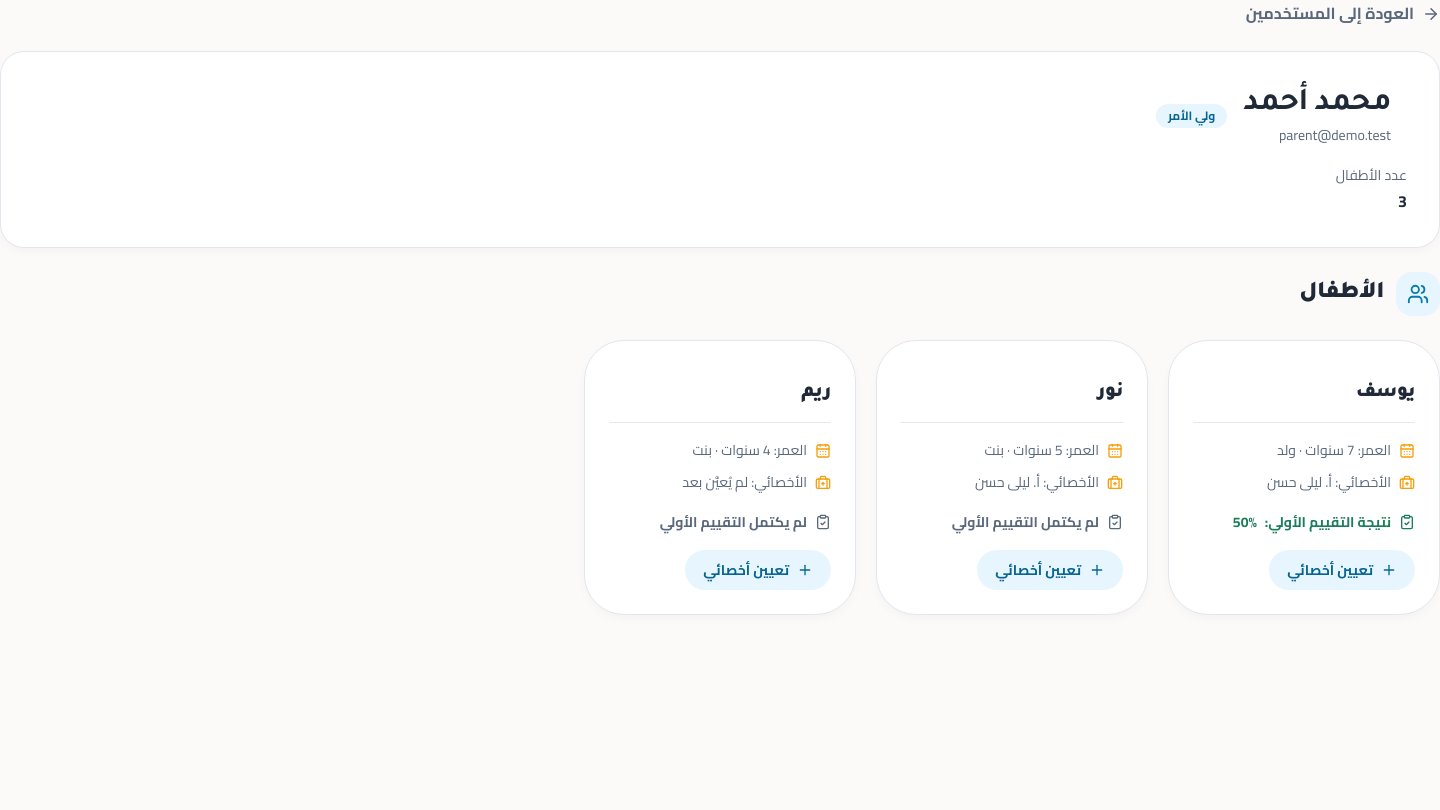
Test: AdminUserDetailPage › assigns a specialist to one child with the + action (one-child request)
The width and height of the screenshot is (1440, 810).
Expected: the heading "محمد أحمد" is shown, [1243,84,1391,124]
What coordinates should you click on to do the following:
click the button with aria-label "تعيين أخصائي لـ ريم"
I would click on:
 (758, 570)
Its box is [685,550,831,590].
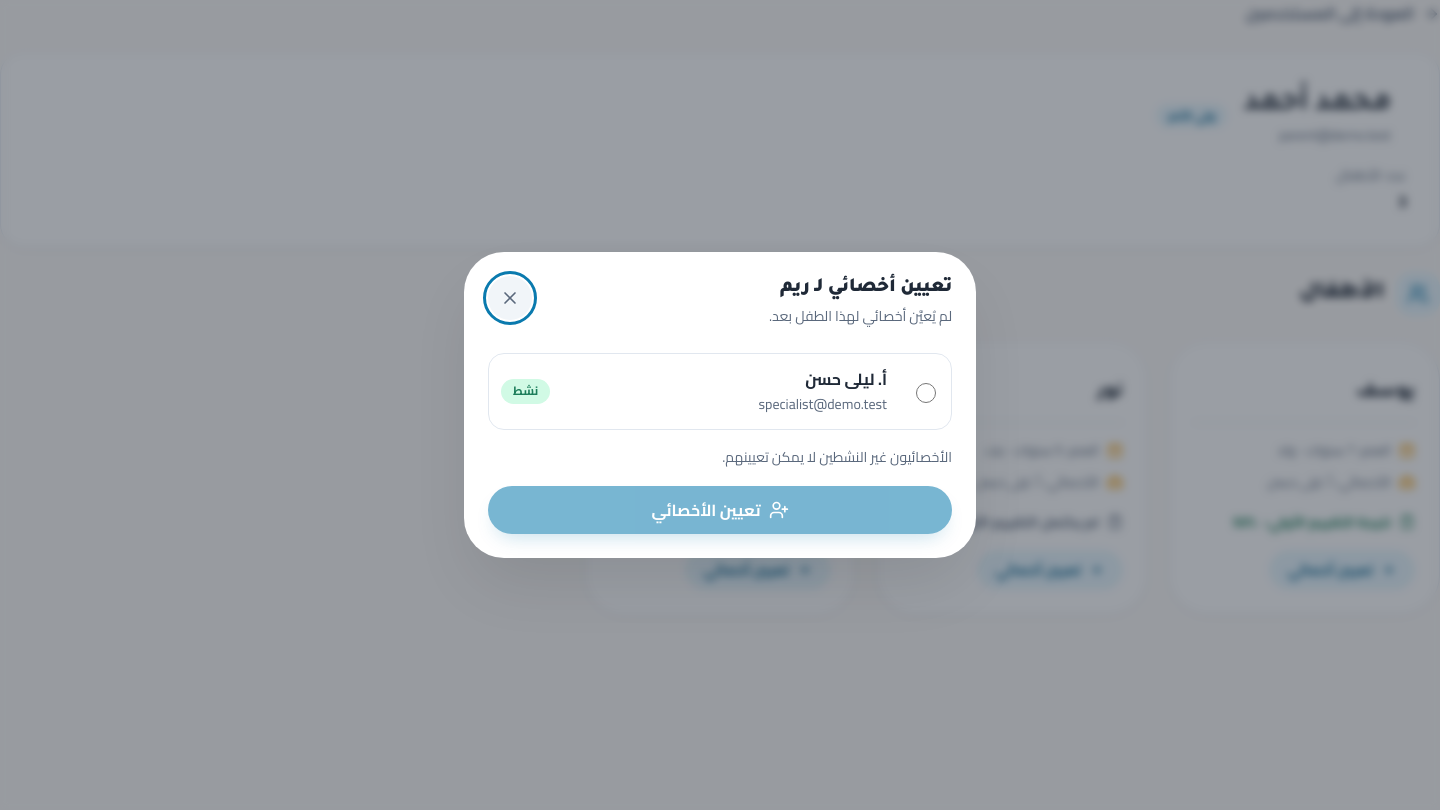
Expected: the text "لم يُعيَّن أخصائي لهذا الطفل بعد." is shown, [769,305,952,329]
Expected: the button "تعيين الأخصائي" is disabled, [488,486,952,534]
What coordinates should you click on to do the following:
click the radio button labelled "أ. ليلى حسن specialist@demo.test نشط"
I would click on:
 (926, 393)
Its box is [916,383,936,403].
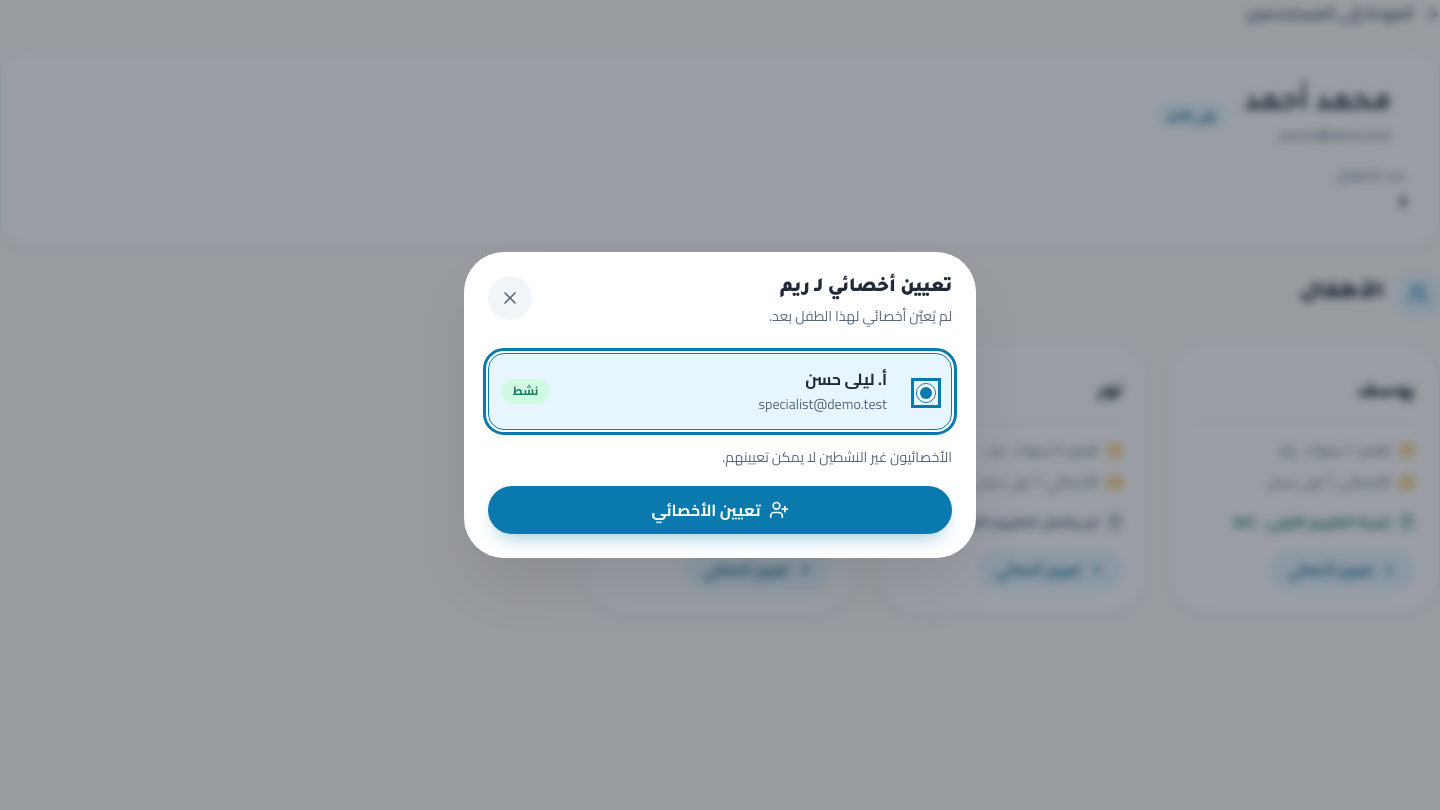
What coordinates should you click on to do the following:
click the button "تعيين الأخصائي"
I would click on:
 (720, 510)
Its box is [488,486,952,534].
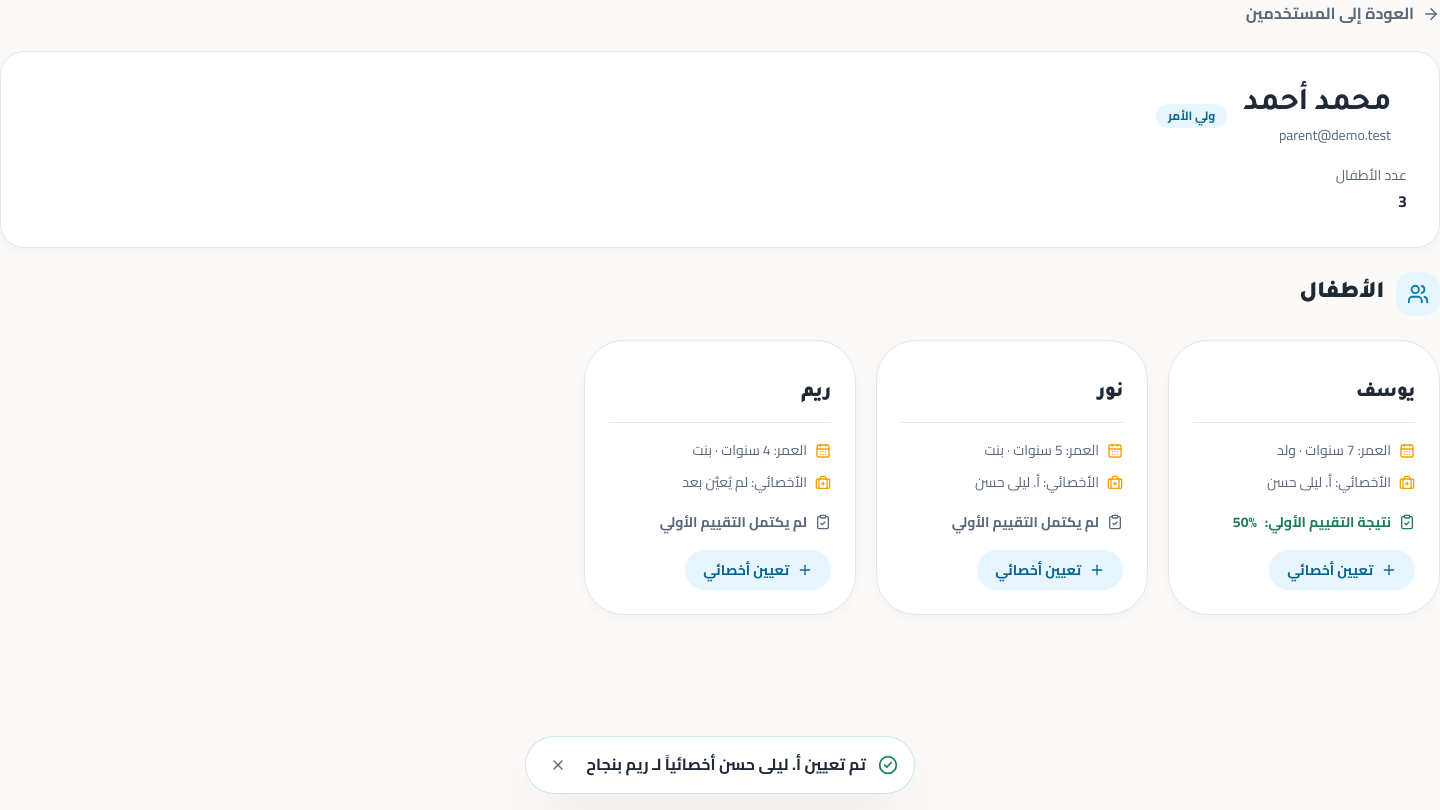
Expected: the text "تم تعيين أ. ليلى حسن أخصائياً لـ ريم بنجاح" is shown, [586,751,866,779]
Expected: the heading "تعيين أخصائي لـ ريم" is gone
